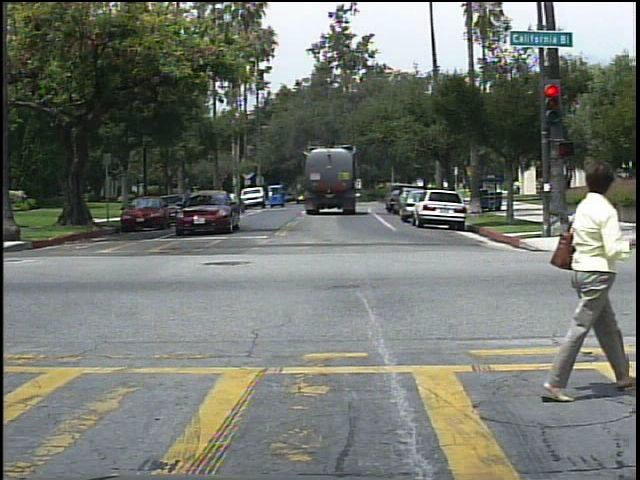person: (517, 135, 637, 408), (513, 180, 526, 199)
